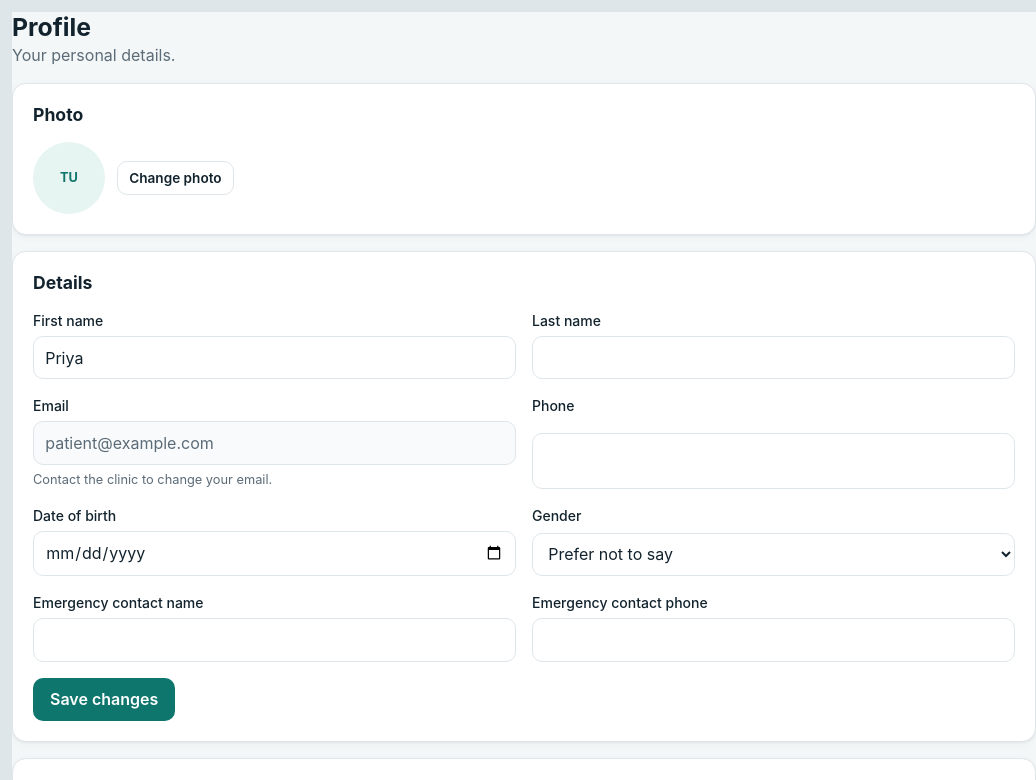
ProfilePage › updates patient profile details successfully
Replace the text in the field labelled "First name" with "Priyanka" at (274, 358), box [33,336,516,379]
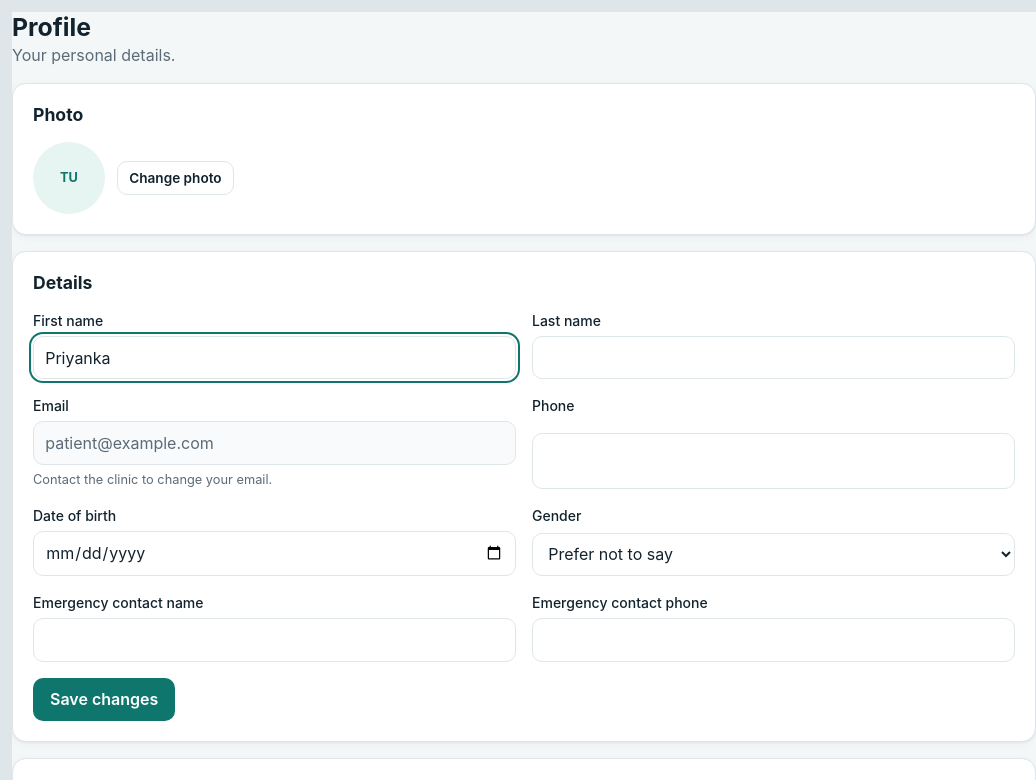
Type "Kapoor" into the field labelled "Last name" at (774, 358), box [532,336,1015,379]
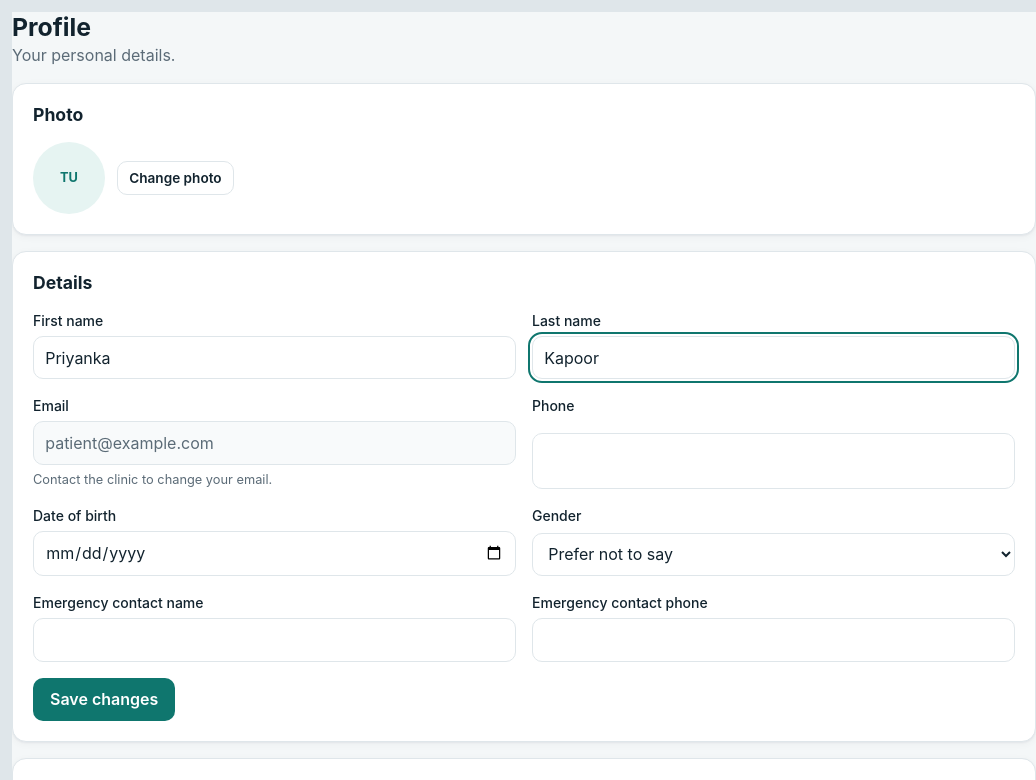
Click the button "Save changes" at (104, 699), box [33,678,175,721]
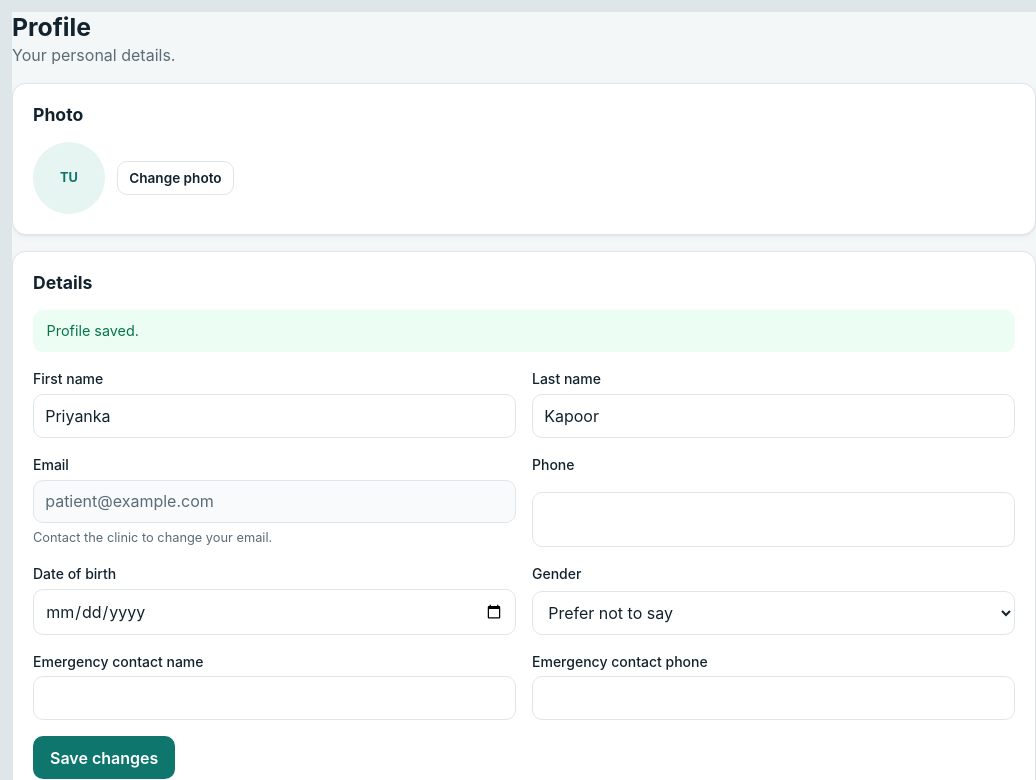
Result: the text "Profile saved." is shown at [33,310,1015,352]
